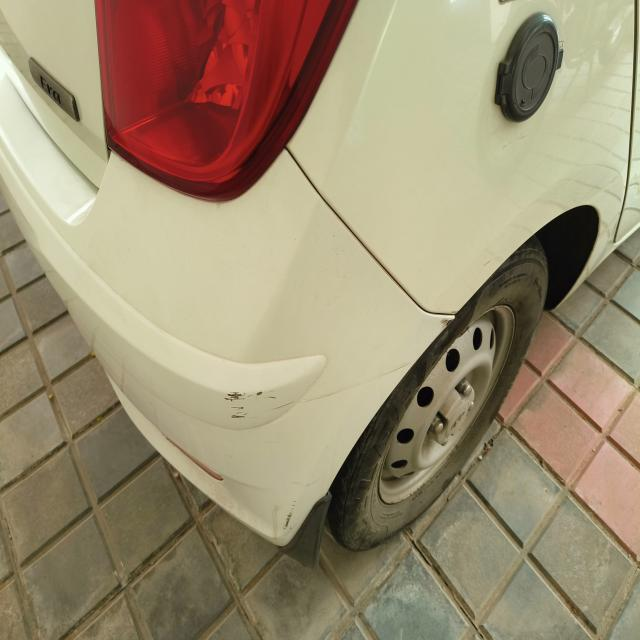scratch: (293, 351, 415, 425), (220, 382, 292, 425), (278, 490, 303, 541)
